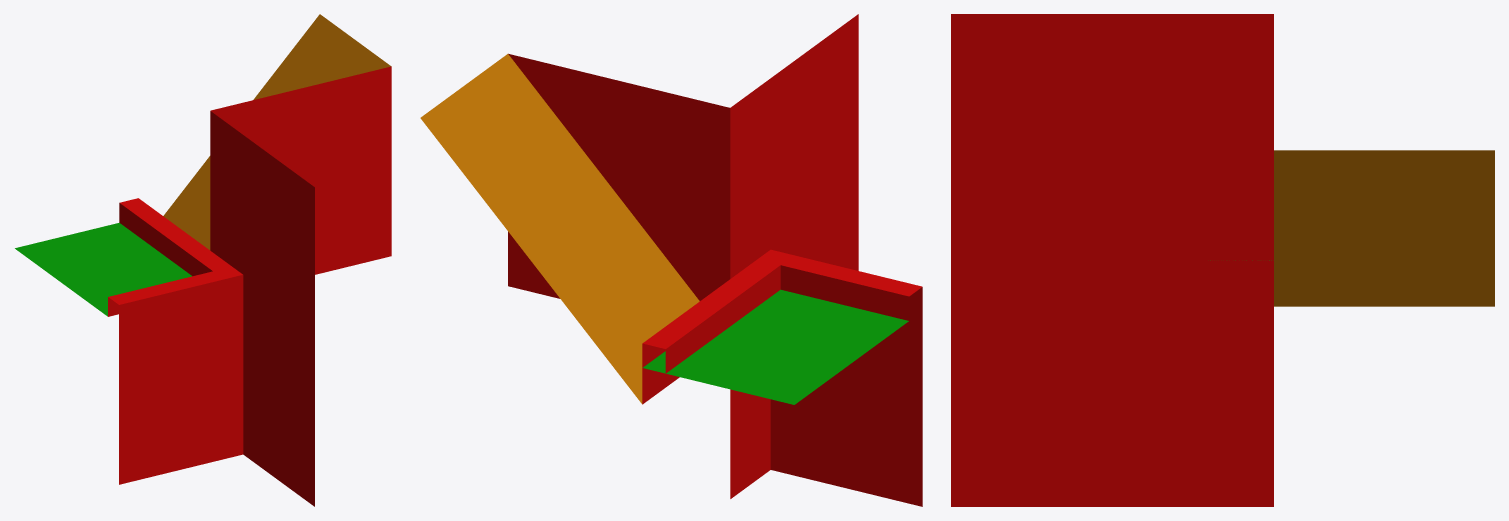
3 renders of one model, left to right at view 1: azimuth 30°, elevation 25°; view 2: azimuth 150°, elevation 25°; view 3: azimuth 270°, elevation 25°, orthographic. The views are drawn at different scales.
Visible parts, largest first — view 1: None_S_A_E_A_W_E_E_E_None; view 2: None_S_A_E_A_W_E_E_E_None; view 3: None_S_A_E_A_W_E_E_E_None.
Boxes of the visible parts, x1,y1,x2,y2 form: None_S_A_E_A_W_E_E_E_None: (15, 14, 391, 506); None_S_A_E_A_W_E_E_E_None: (420, 14, 922, 506); None_S_A_E_A_W_E_E_E_None: (951, 14, 1494, 506).
Size of the model in its own units: 100 by 100 by 100.
